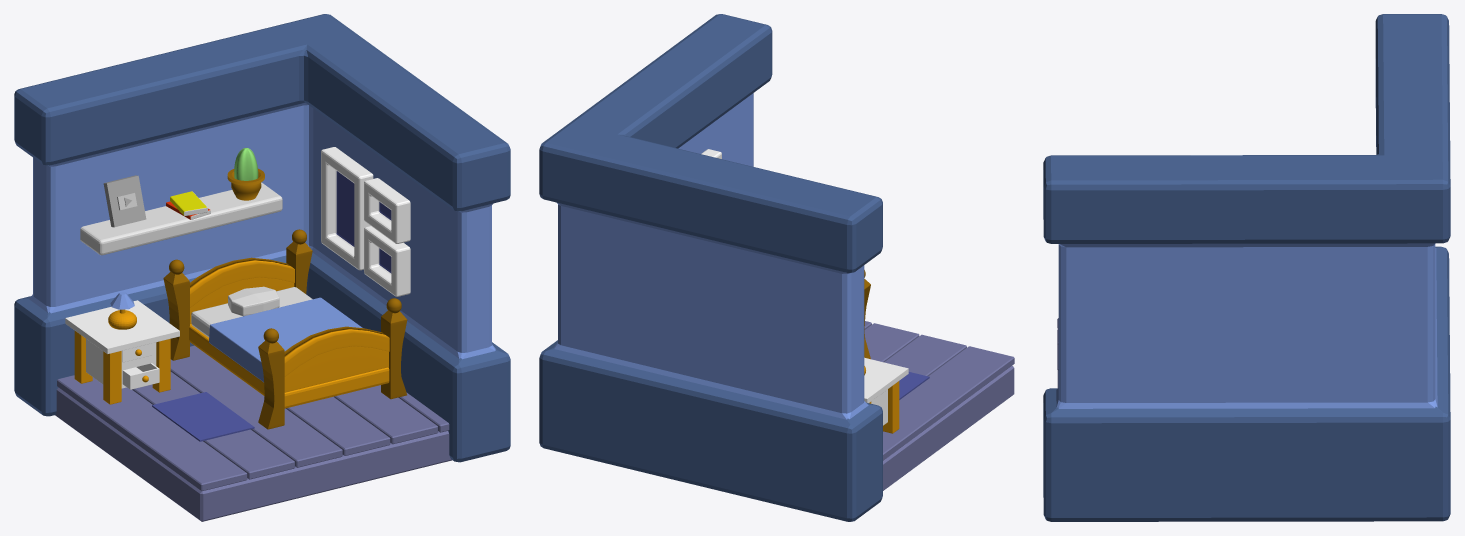
The model's file is tiny_room.glb.
3 views of the same model, side by side, from view 1: azimuth 30°, elevation 25°; view 2: azimuth 150°, elevation 25°; view 3: azimuth 270°, elevation 25° (orthographic). The views are drawn at different scales.
Parts seen in each view (by area): view 1: Wall, Floor Boards, Floor, Pictures, Bed Head Board, Plane, Dresser, Shelf, Blanket, Bed, Rug, Dresser Legs (+6 smaller); view 2: Wall, Floor Boards, Floor, Dresser, Dresser Legs; view 3: Wall.
Boxes of the visible parts, box(x1,y1,x2,y2) form: Wall: box(14, 14, 510, 462); Floor Boards: box(57, 345, 449, 491); Floor: box(55, 387, 452, 521); Pictures: box(321, 147, 410, 296); Bed Head Board: box(190, 257, 389, 392); Plane: box(163, 229, 407, 429); Dresser: box(65, 292, 179, 389); Shelf: box(80, 182, 282, 255); Blanket: box(209, 297, 362, 382); Bed: box(189, 323, 389, 408); Rug: box(152, 392, 254, 441); Dresser Legs: box(74, 331, 170, 404); Wall: box(539, 14, 882, 521); Floor Boards: box(864, 321, 1014, 460); Floor: box(883, 365, 1014, 490); Dresser: box(864, 357, 908, 425); Dresser Legs: box(869, 381, 899, 433); Wall: box(1043, 14, 1450, 521).
Bounding box in the file's own units: 2.17 × 2.01 × 2.16.
